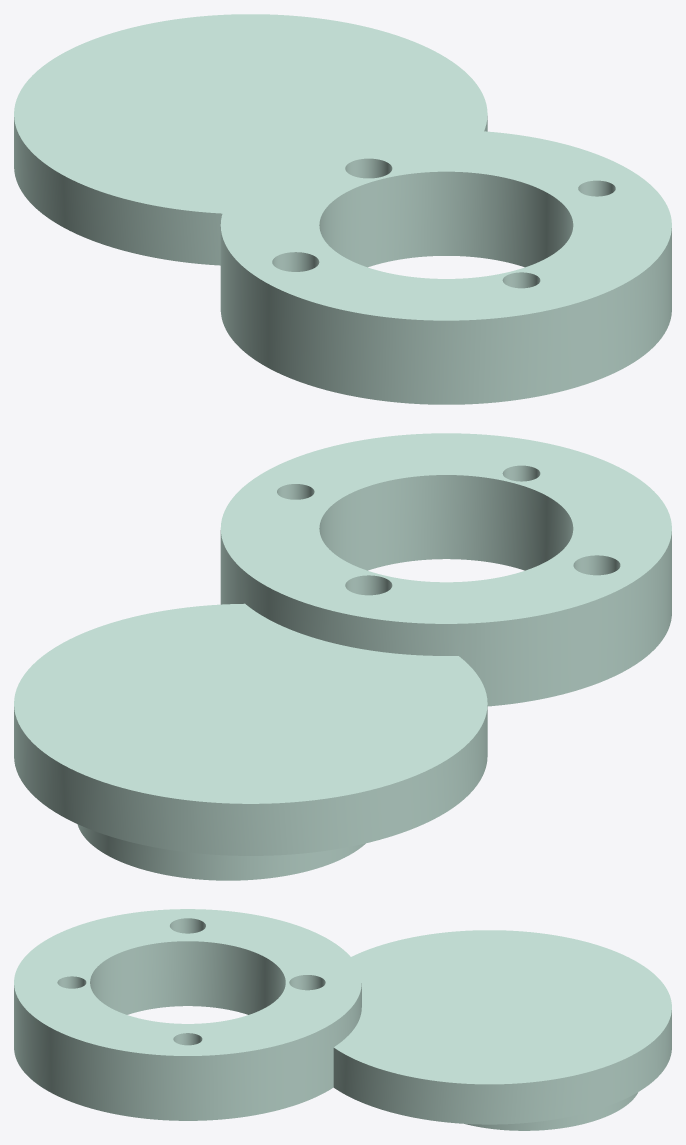
3 renders of one model, top to bottom at view 1: azimuth 30°, elevation 25°; view 2: azimuth 150°, elevation 25°; view 3: azimuth 270°, elevation 25°, orthographic. The views are drawn at different scales.
Parts seen in each view (by area): view 1: Renderer Node; view 2: Renderer Node; view 3: Renderer Node.
Boxes of the visible parts, bbox=[...] form: Renderer Node: bbox=[14, 14, 671, 404]; Renderer Node: bbox=[14, 433, 671, 880]; Renderer Node: bbox=[14, 909, 671, 1130].
Size of the model in its own units: 0.8366 by 0.25 by 1.51.
